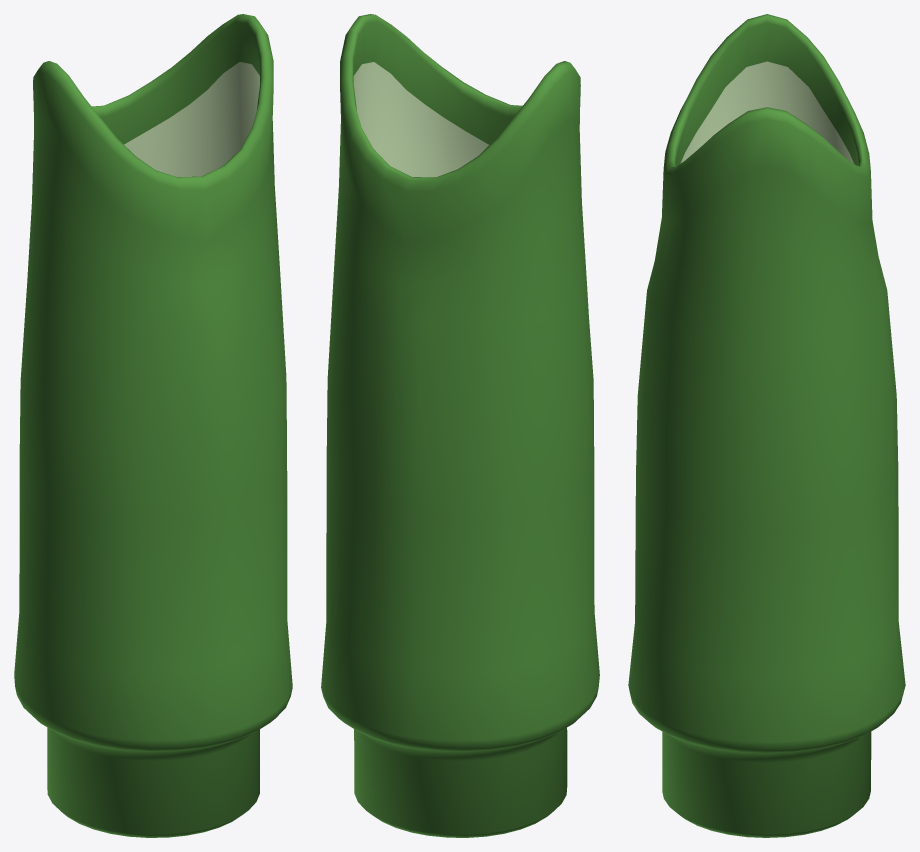
Rendered from SM_CubreAgujas.fbx.
3 views of the same model, side by side, from view 1: azimuth 30°, elevation 25°; view 2: azimuth 150°, elevation 25°; view 3: azimuth 270°, elevation 25° (orthographic). The views are drawn at different scales.
Visible parts, largest first — view 1: Cubreagujas; view 2: Cubreagujas; view 3: Cubreagujas.
Part boxes in pixels (box(x1,y1,x2,y2)): Cubreagujas: box(14, 14, 292, 837); Cubreagujas: box(321, 14, 599, 837); Cubreagujas: box(628, 14, 905, 837).
Bounding box in the file's own units: 1.79 × 5.43 × 1.85.
